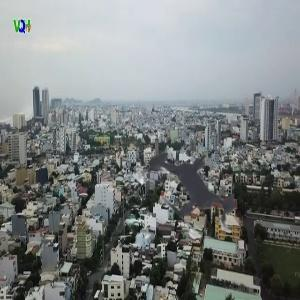drone: (110, 106, 281, 277)
